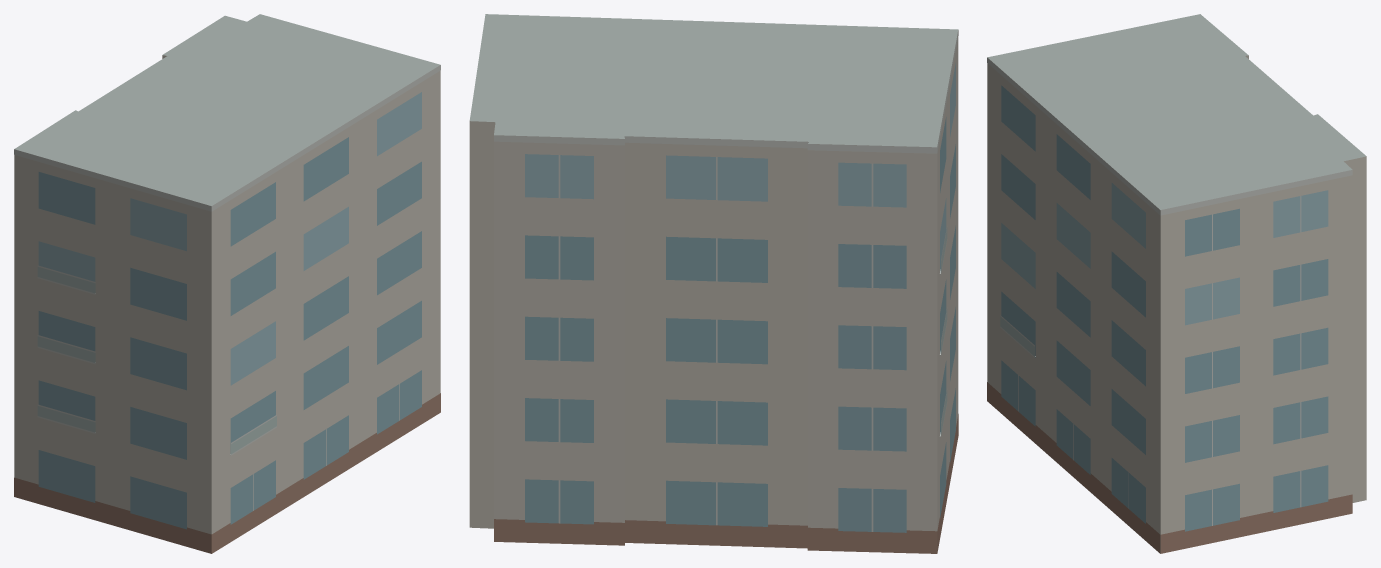
The model's file is survey-upis-32739011.glb.
3 views of the same model, side by side, from view 1: azimuth 30°, elevation 25°; view 2: azimuth 150°, elevation 25°; view 3: azimuth 270°, elevation 25° (orthographic). The views are drawn at different scales.
Visible parts, largest first — view 1: survey-upis-32739011.tmp; view 2: survey-upis-32739011.tmp; view 3: survey-upis-32739011.tmp.
Boxes of the visible parts, x1,y1,x2,y2 form: survey-upis-32739011.tmp: (14, 14, 440, 553); survey-upis-32739011.tmp: (469, 14, 958, 553); survey-upis-32739011.tmp: (987, 14, 1366, 553).
Size of the model in its own units: 18.67 by 15.25 by 15.27.
